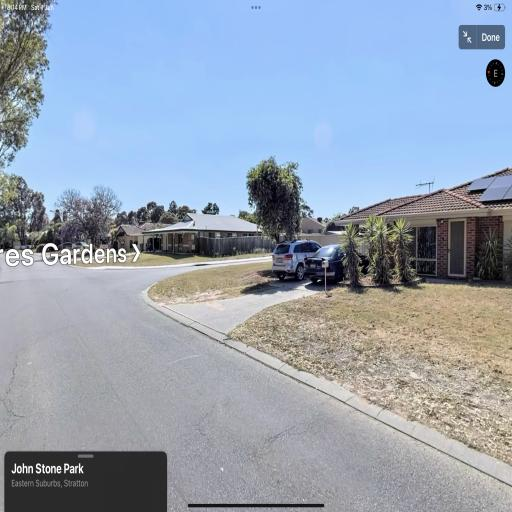Roads: (34, 280, 503, 481)
Trees: (337, 209, 439, 294), (236, 150, 316, 257)
